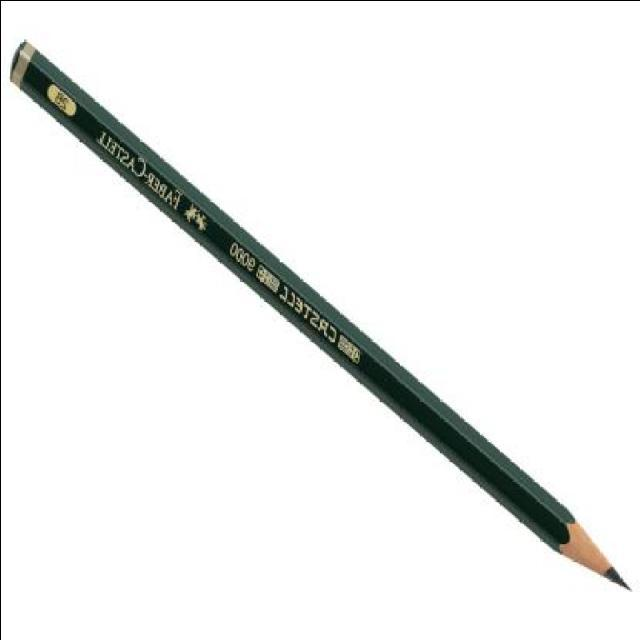pencil: (547, 496, 635, 598)
